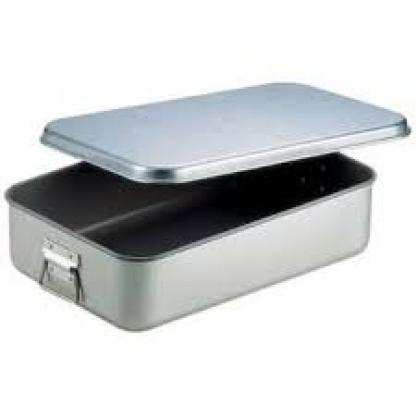METAL: (4, 157, 375, 331), (37, 81, 409, 182)
